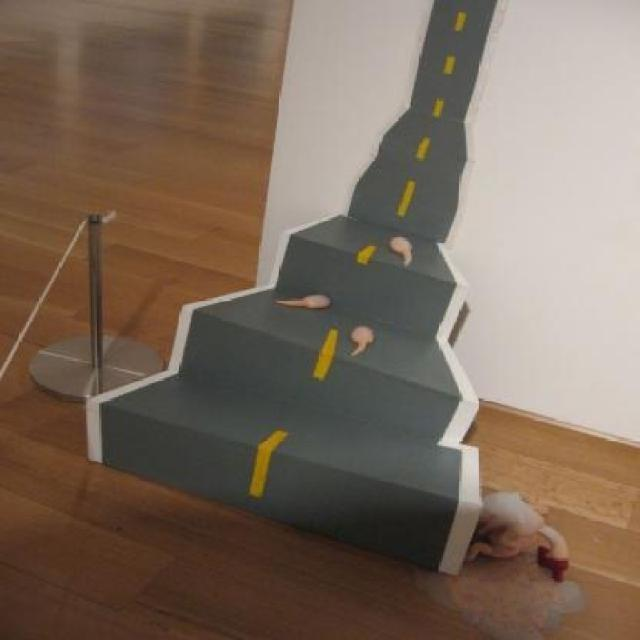stair: (81, 214, 482, 578)
